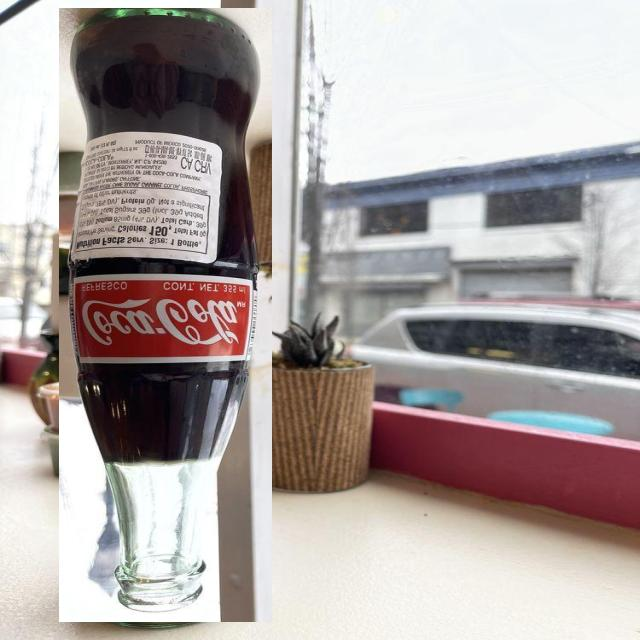coca-cola: (59, 8, 272, 622)
